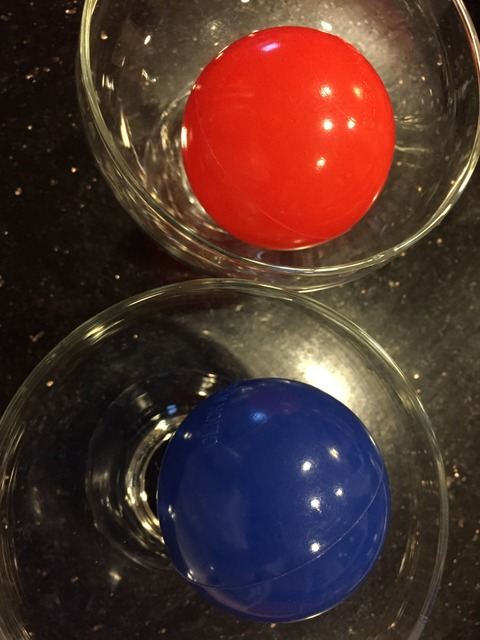Ball: (175, 25, 402, 252)
